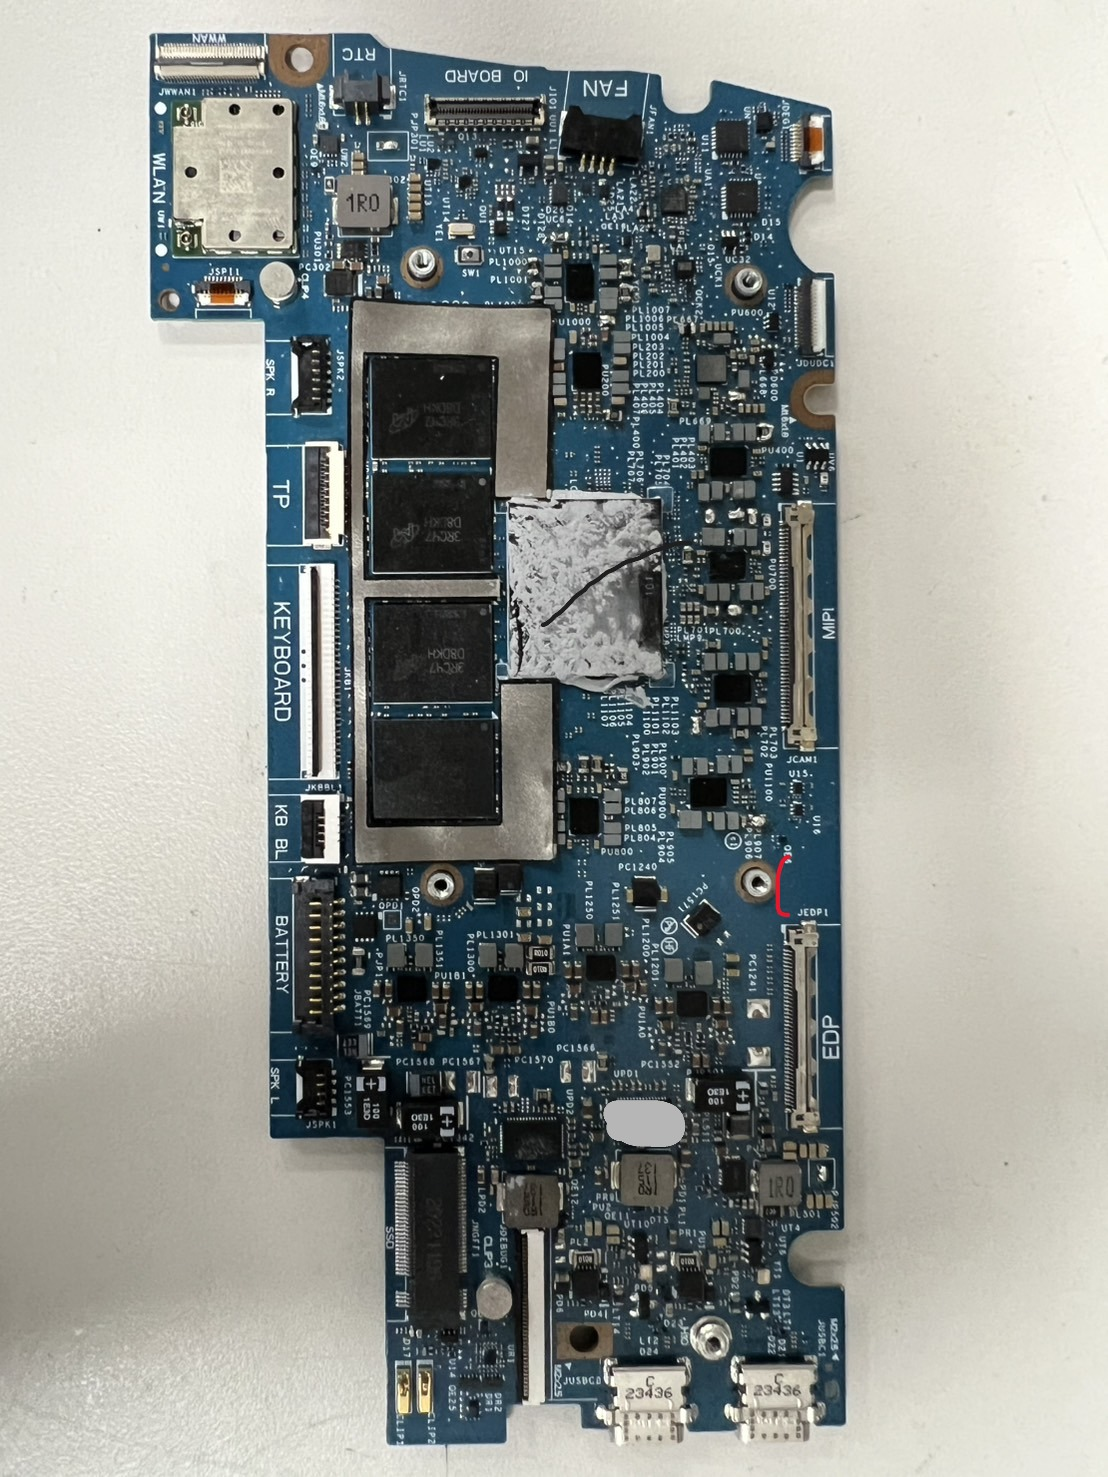error-garbage: (507, 495, 672, 706), (539, 537, 708, 629), (763, 848, 800, 923)
